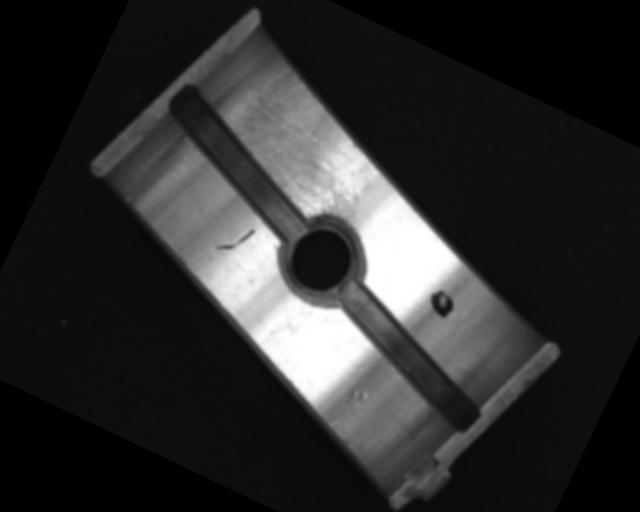blot: (423, 285, 459, 320)
bruise: (338, 381, 375, 418)
gap: (137, 80, 342, 248), (313, 278, 508, 433)
hole: (268, 204, 377, 313)
nick: (213, 214, 257, 261)
scratch: (204, 53, 407, 242)
